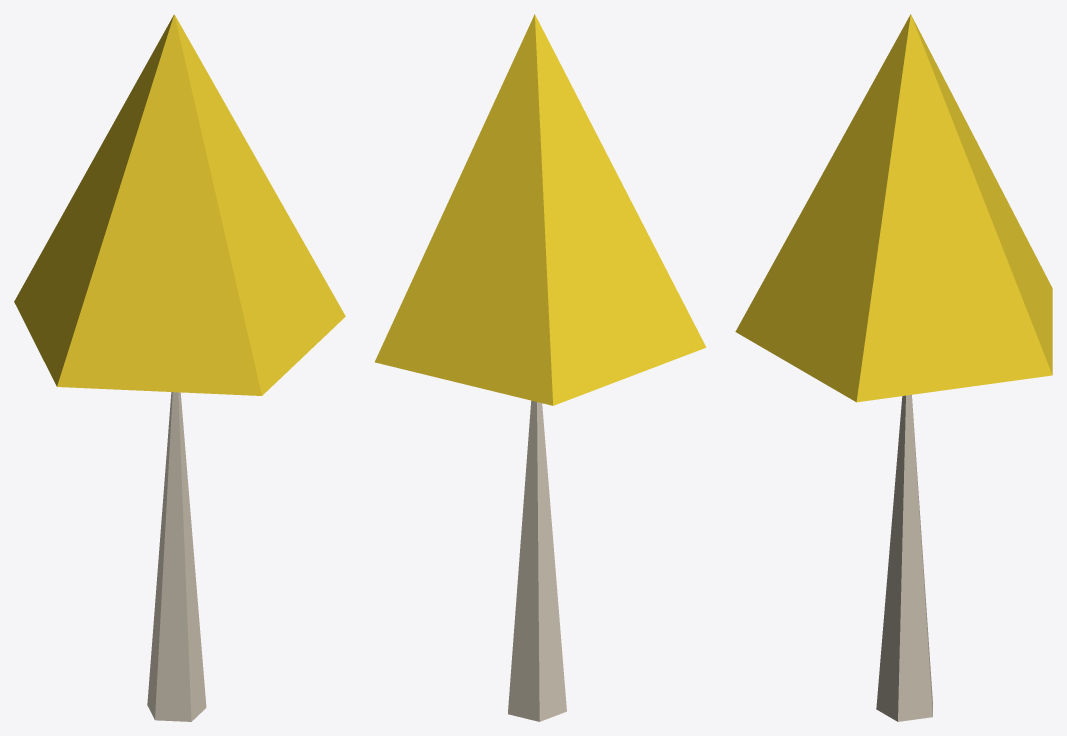
File: land_tree_toy_cube_yellow_far.glb
The picture shows the model from 3 angles, left to right: view 1: azimuth 30°, elevation 25°; view 2: azimuth 150°, elevation 25°; view 3: azimuth 270°, elevation 25°; orthographic projection.
Size of the model in its own units: 3.04 by 7 by 2.89.
